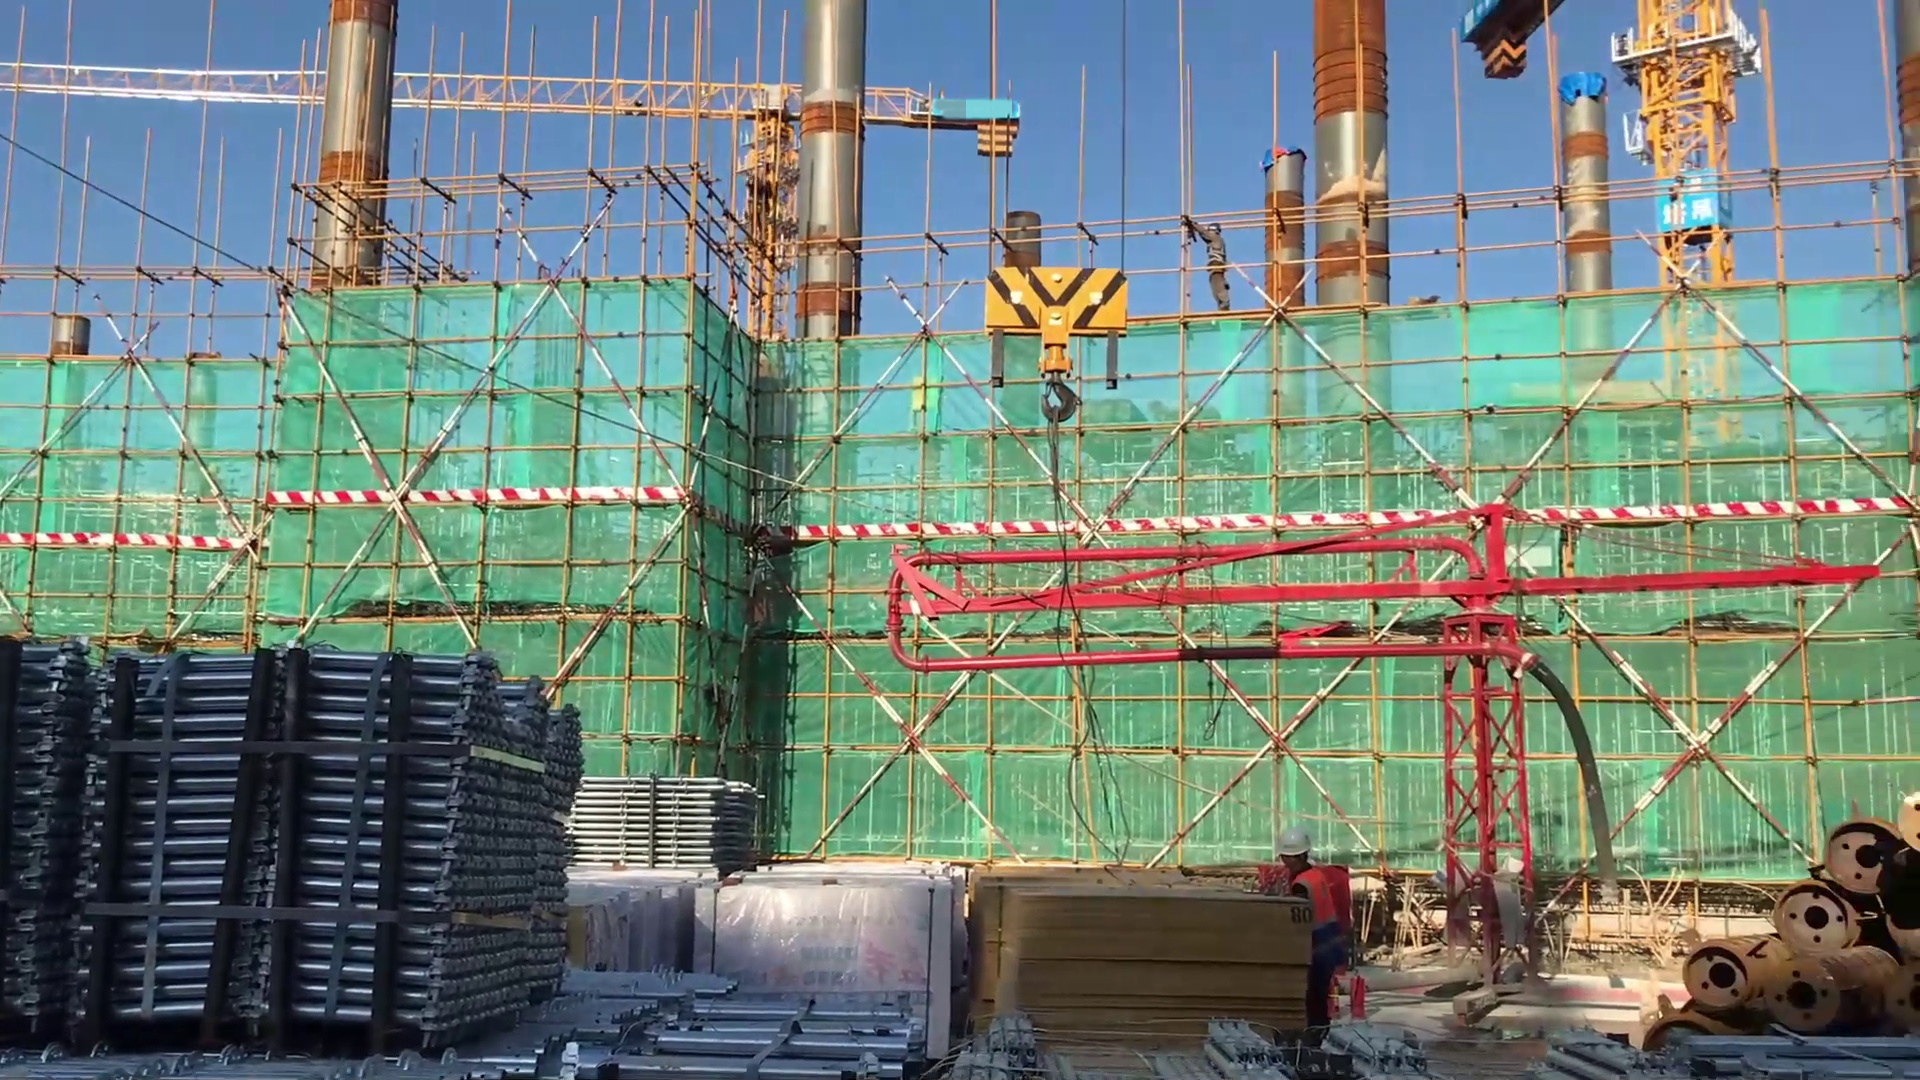board: (965, 872, 1311, 1044)
helmet: (1276, 822, 1323, 861), (1204, 216, 1226, 236)
hook: (959, 251, 1141, 439)
person: (1271, 831, 1341, 1057), (1186, 215, 1241, 328)
scaffold: (1, 623, 606, 1076), (544, 951, 942, 1080), (1537, 1017, 1914, 1080), (579, 770, 754, 869), (1334, 1017, 1425, 1080)
slogan: (1662, 162, 1726, 235)
vest: (1286, 868, 1345, 966)
